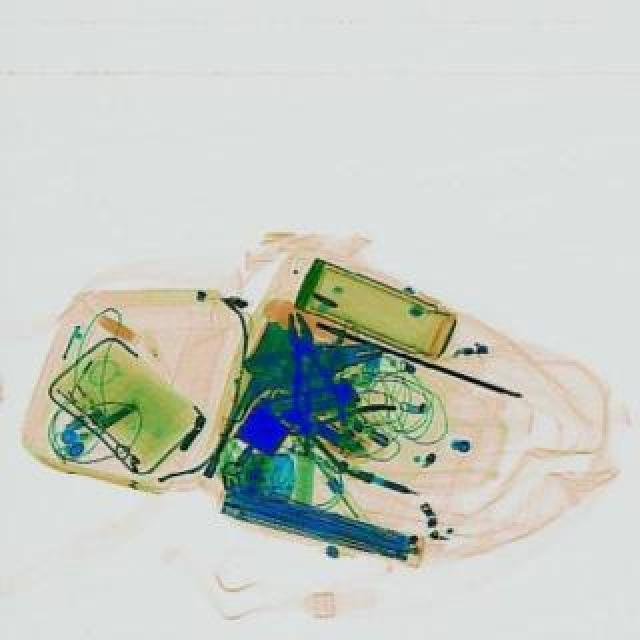wrench: (276, 382, 426, 492), (268, 306, 354, 456), (236, 324, 384, 396)
